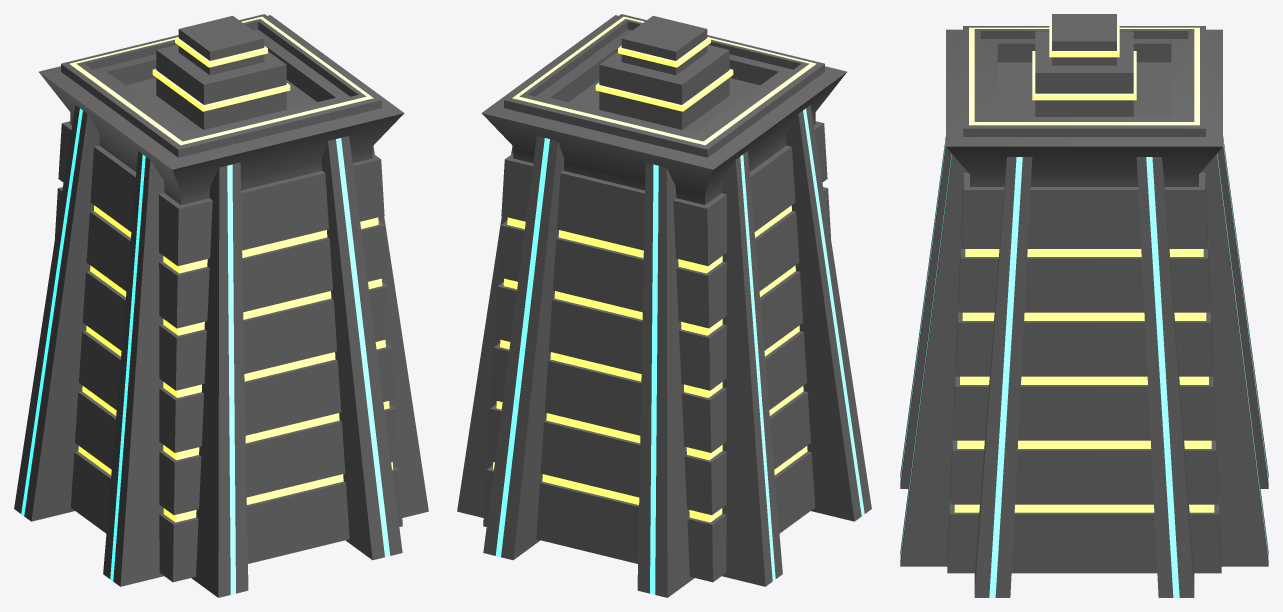
Rendered from mesh_Rooftop_Background_Building_I.fbx.
The picture shows the model from 3 angles, left to right: view 1: azimuth 30°, elevation 25°; view 2: azimuth 150°, elevation 25°; view 3: azimuth 270°, elevation 25°; orthographic projection. The views are drawn at different scales.
Parts seen in each view (by area): view 1: mesh_Rooftop_Background_Building_I; view 2: mesh_Rooftop_Background_Building_I; view 3: mesh_Rooftop_Background_Building_I.
Boxes of the visible parts, x1,y1,x2,y2 form: mesh_Rooftop_Background_Building_I: (14,14,428,597); mesh_Rooftop_Background_Building_I: (457,14,871,597); mesh_Rooftop_Background_Building_I: (900,14,1268,597).
Bounding box in the file's own units: 13.96 × 20.6 × 13.96.
